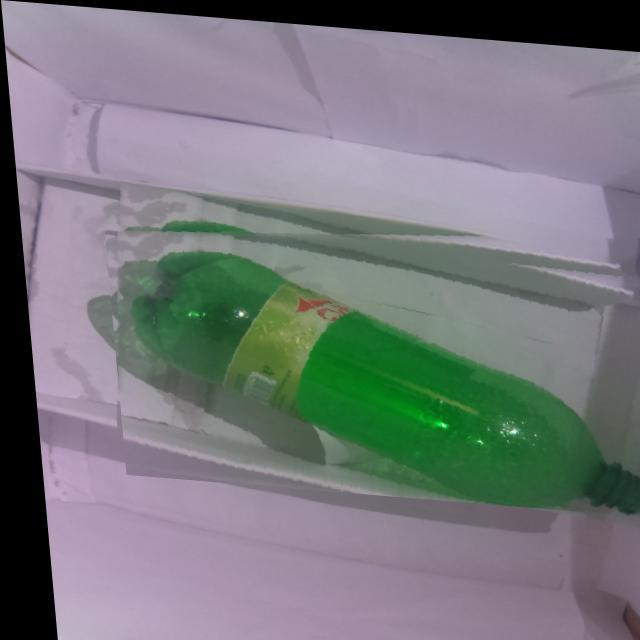litter: (97, 192, 640, 509)
